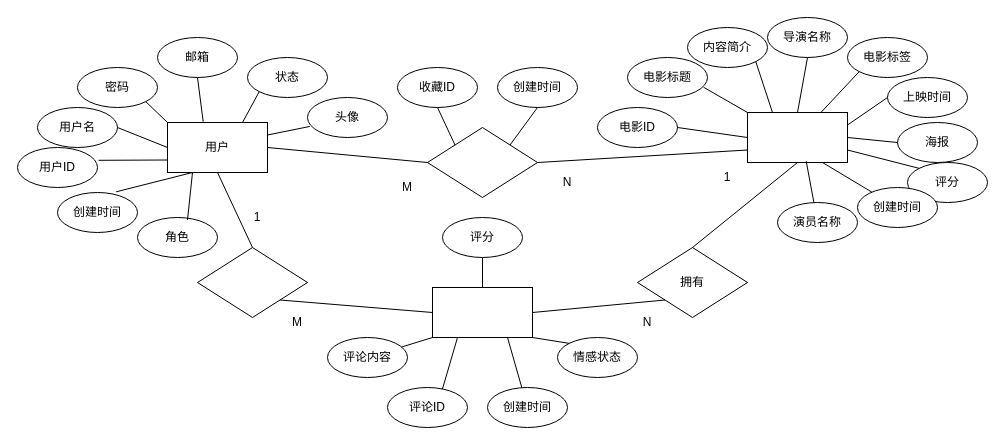
Image size: 1005x445. Some labels were removed from this diagram. Each missing label, with the box of its shape:
撰写: (196, 246, 308, 318)
收藏: (426, 126, 538, 198)
电影: (746, 112, 848, 162)
评论: (432, 286, 532, 338)
